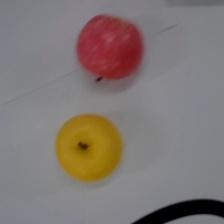red: (77, 13, 143, 84)
yellow: (56, 114, 123, 182)
